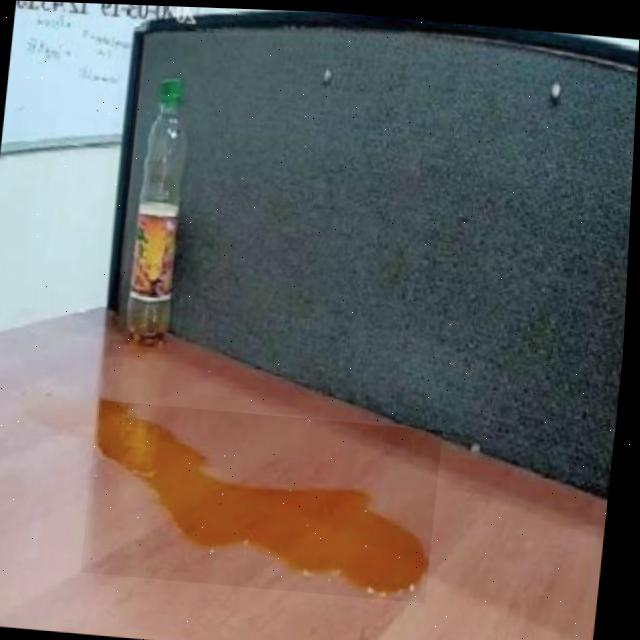spillage: (99, 400, 435, 596)
